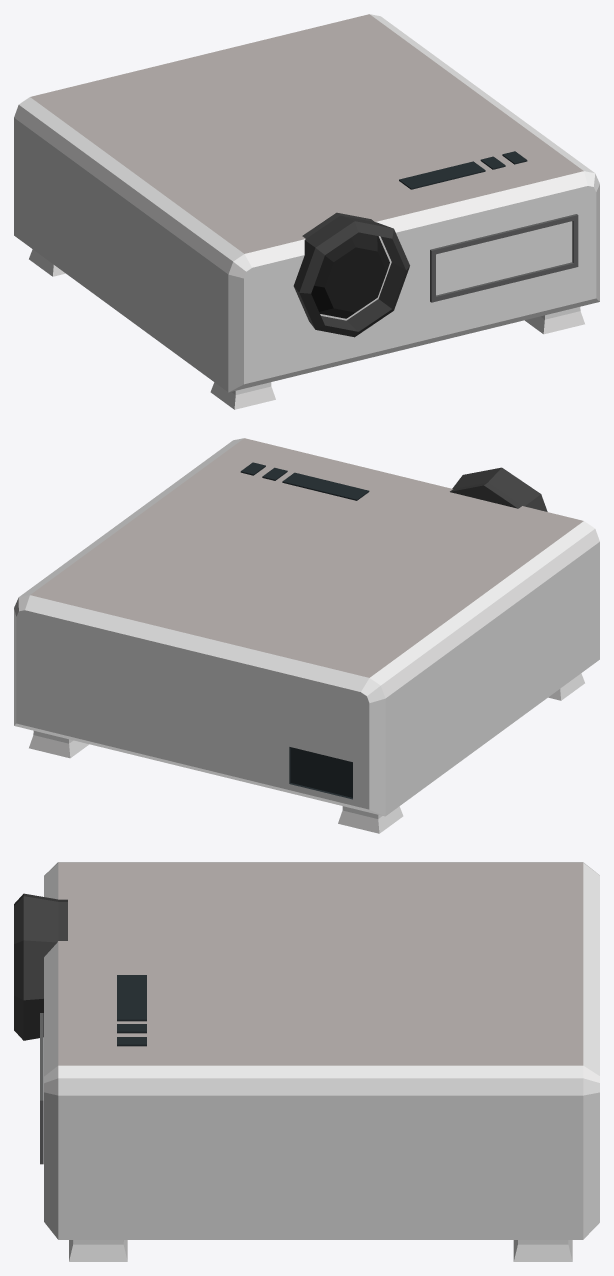
File: ProjectorV1.fbx
The picture shows the model from 3 angles, top to bottom: view 1: azimuth 30°, elevation 25°; view 2: azimuth 150°, elevation 25°; view 3: azimuth 270°, elevation 25°; orthographic projection. The views are drawn at different scales.
Visible parts, largest first — view 1: ProjectorV1; view 2: ProjectorV1; view 3: ProjectorV1.
Part boxes in pixels (<box>): ProjectorV1: <box>14,14,599,409</box>; ProjectorV1: <box>14,438,599,833</box>; ProjectorV1: <box>14,862,599,1261</box>.
Size of the model in its own units: 43.4 by 19.8 by 48.45.
